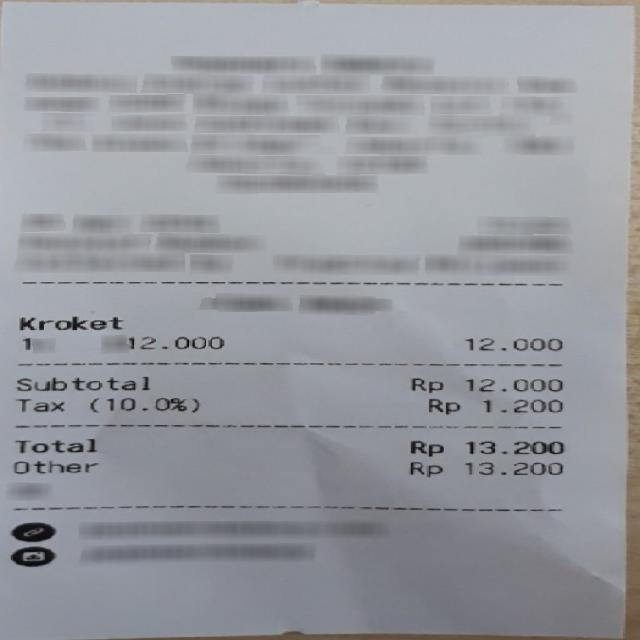text: (15, 375, 145, 390), (88, 396, 200, 411), (466, 439, 560, 454), (464, 336, 560, 350), (17, 316, 120, 328), (12, 438, 94, 453), (464, 378, 560, 390), (464, 461, 560, 473), (127, 336, 222, 348), (480, 398, 560, 412), (12, 460, 96, 473), (17, 398, 60, 410), (410, 440, 441, 456), (410, 377, 441, 392), (426, 398, 457, 413), (408, 462, 439, 476), (21, 336, 33, 350)
